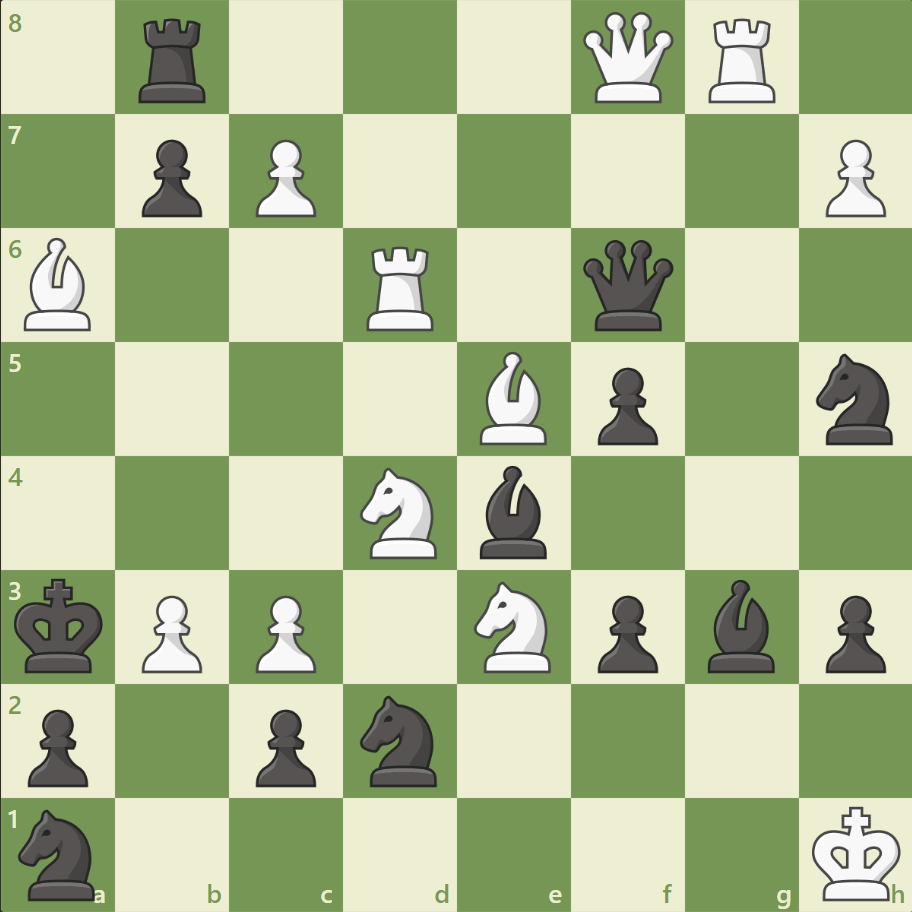B: (17, 233, 101, 336), (471, 347, 555, 449)
K: (806, 798, 906, 906)
N: (351, 461, 449, 564), (465, 575, 562, 677)
P: (247, 132, 322, 223), (133, 586, 208, 677), (247, 586, 322, 677), (815, 132, 889, 223)
Q: (578, 9, 677, 108)
R: (700, 12, 783, 109), (360, 239, 442, 336)
b: (471, 460, 555, 563), (698, 574, 782, 676)
k: (11, 571, 111, 679)
n: (351, 688, 449, 791), (806, 348, 903, 450), (11, 802, 108, 904)
p: (133, 132, 208, 223), (20, 700, 95, 791), (247, 700, 322, 791), (588, 359, 662, 450), (588, 586, 662, 677), (815, 586, 889, 677)
q: (578, 236, 677, 335)
r: (133, 12, 215, 109)
